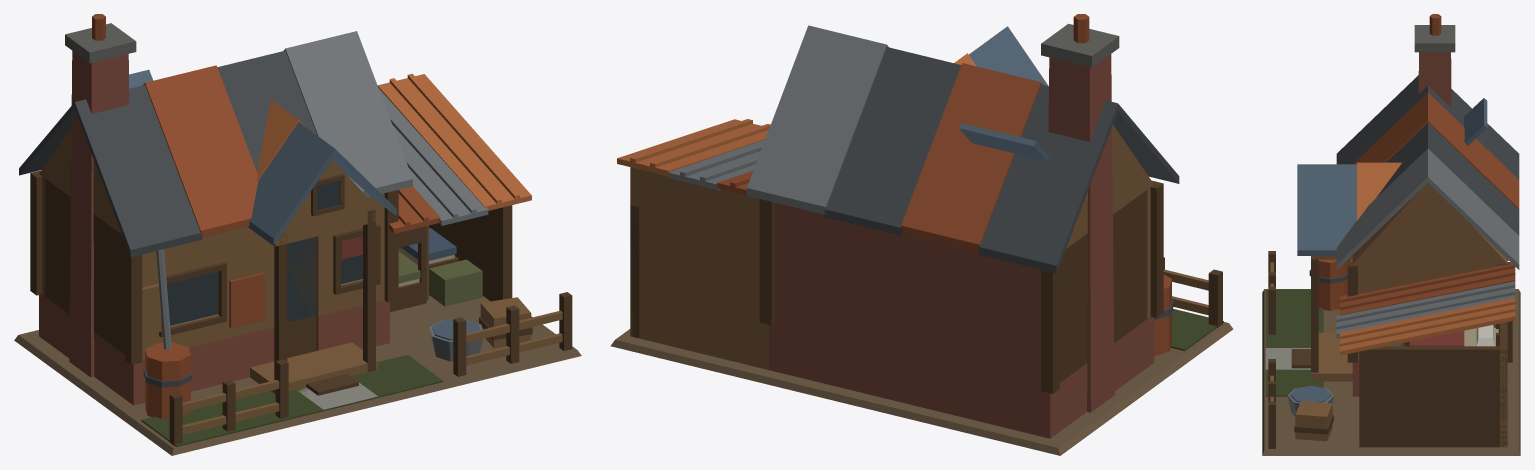
The model's file is house_l1.glb.
3 renders of one model, left to right at view 1: azimuth 30°, elevation 25°; view 2: azimuth 150°, elevation 25°; view 3: azimuth 270°, elevation 25°, orthographic. The views are drawn at different scales.
Parts seen in each view (by area): view 1: house_structure, house_roof, house_props; view 2: house_structure, house_roof, house_props; view 3: house_structure, house_roof, house_props.
Boxes of the visible parts, x1,y1,x2,y2 form: house_structure: [14, 23, 581, 455]; house_roof: [19, 31, 531, 256]; house_props: [30, 14, 532, 418]; house_structure: [610, 23, 1233, 455]; house_roof: [617, 25, 1179, 273]; house_props: [759, 14, 1173, 393]; house_structure: [1262, 25, 1520, 455]; house_roof: [1297, 75, 1519, 355]; house_props: [1287, 14, 1512, 441].
Size of the model in its own units: 6 by 4.95 by 4.
